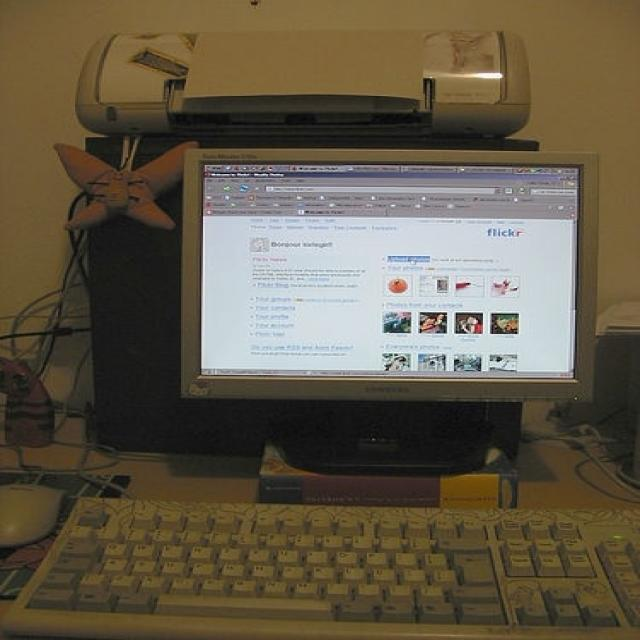tvmonitor: (174, 145, 603, 476)
